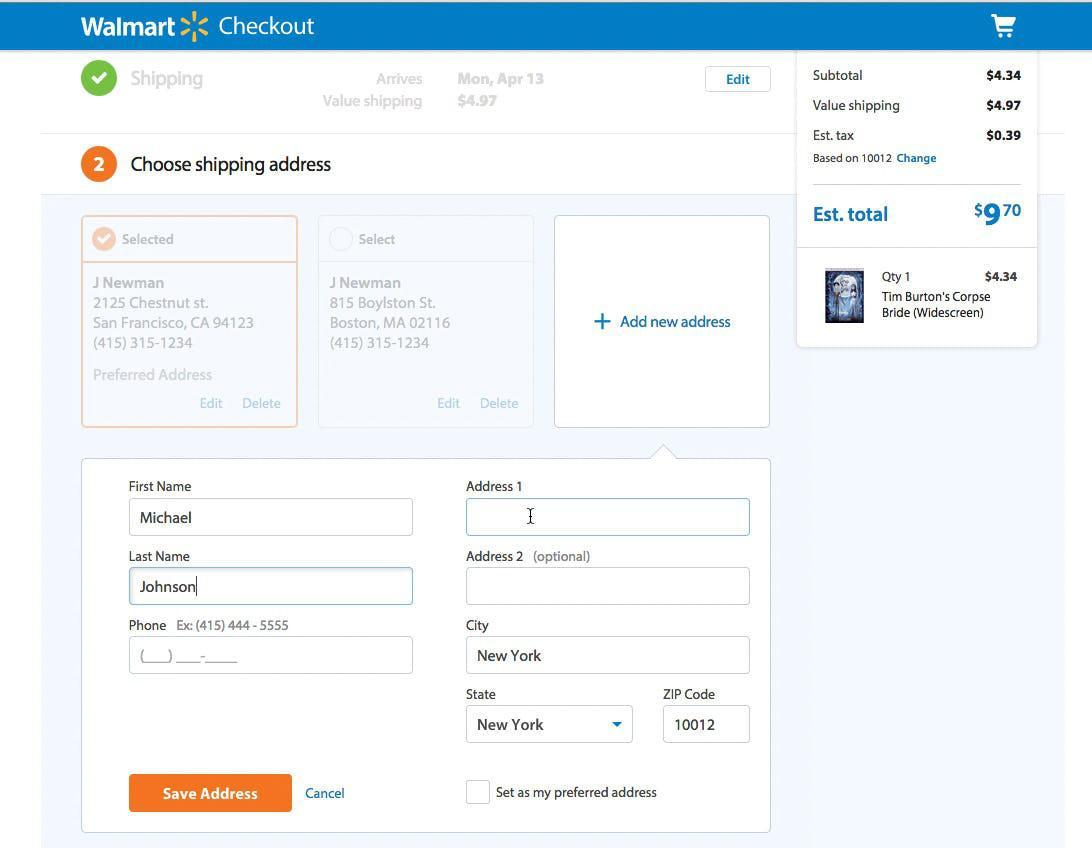button: (129, 775, 294, 814), (705, 65, 773, 93)
checkbox: (89, 223, 122, 257), (466, 781, 492, 805)
dropdown: (465, 705, 635, 745)
icon: (990, 8, 1026, 43)
input: (128, 566, 416, 607), (128, 635, 415, 676), (128, 496, 415, 536), (465, 498, 752, 538), (465, 567, 752, 607), (466, 637, 753, 675), (663, 704, 752, 745)
label: (128, 150, 334, 179), (592, 312, 736, 335), (495, 784, 660, 802), (130, 619, 290, 634), (129, 480, 194, 494), (664, 687, 717, 702), (467, 550, 526, 563), (129, 551, 192, 563), (466, 480, 523, 493), (305, 787, 348, 800), (466, 689, 498, 702), (466, 620, 491, 635)
radio: (328, 224, 355, 257)
